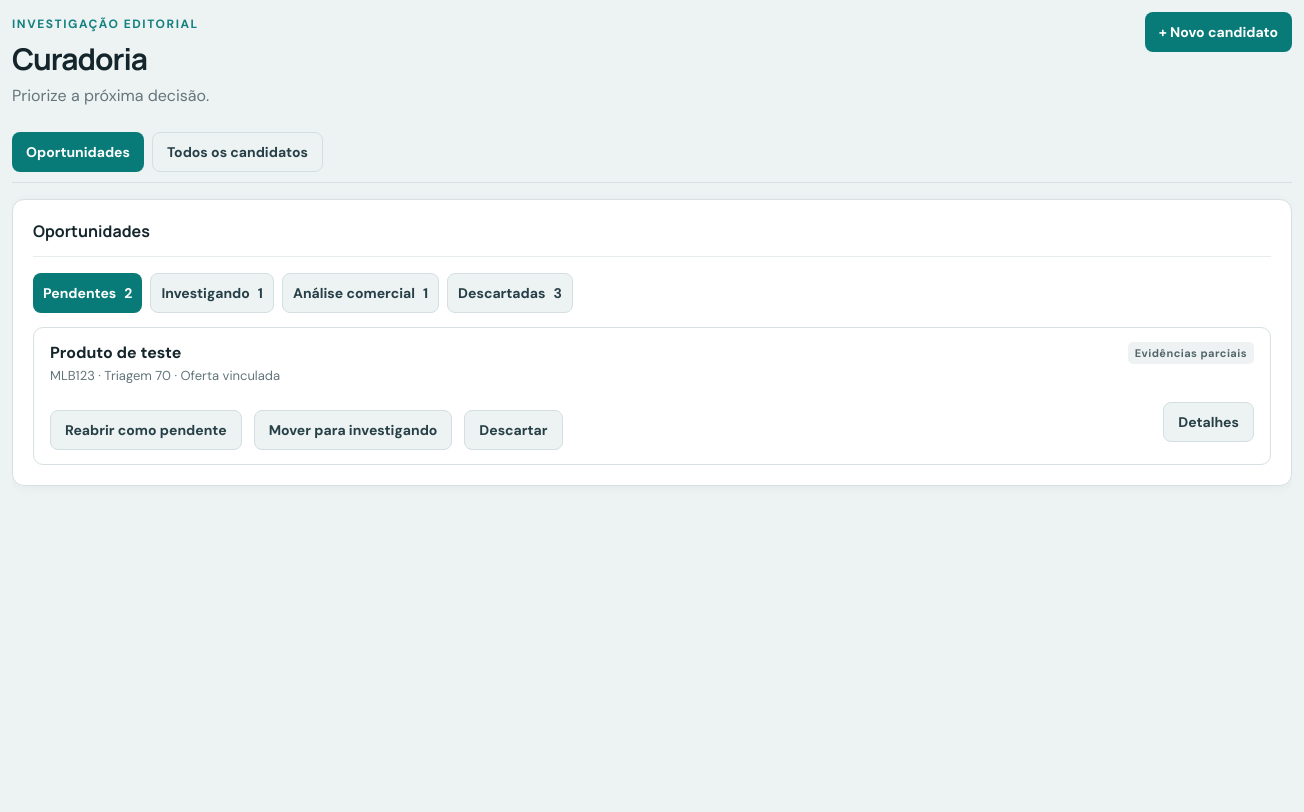
Test: Commercial analysis operator UI › loads the commercial summary only after opening the commercial-review tab
The image size is (1304, 812).
Expected: the heading "Produto de teste" is shown, [50,342,181,363]
Click the button "Análise comercial 1": {"x": 361, "y": 293} [282,273,439,313]
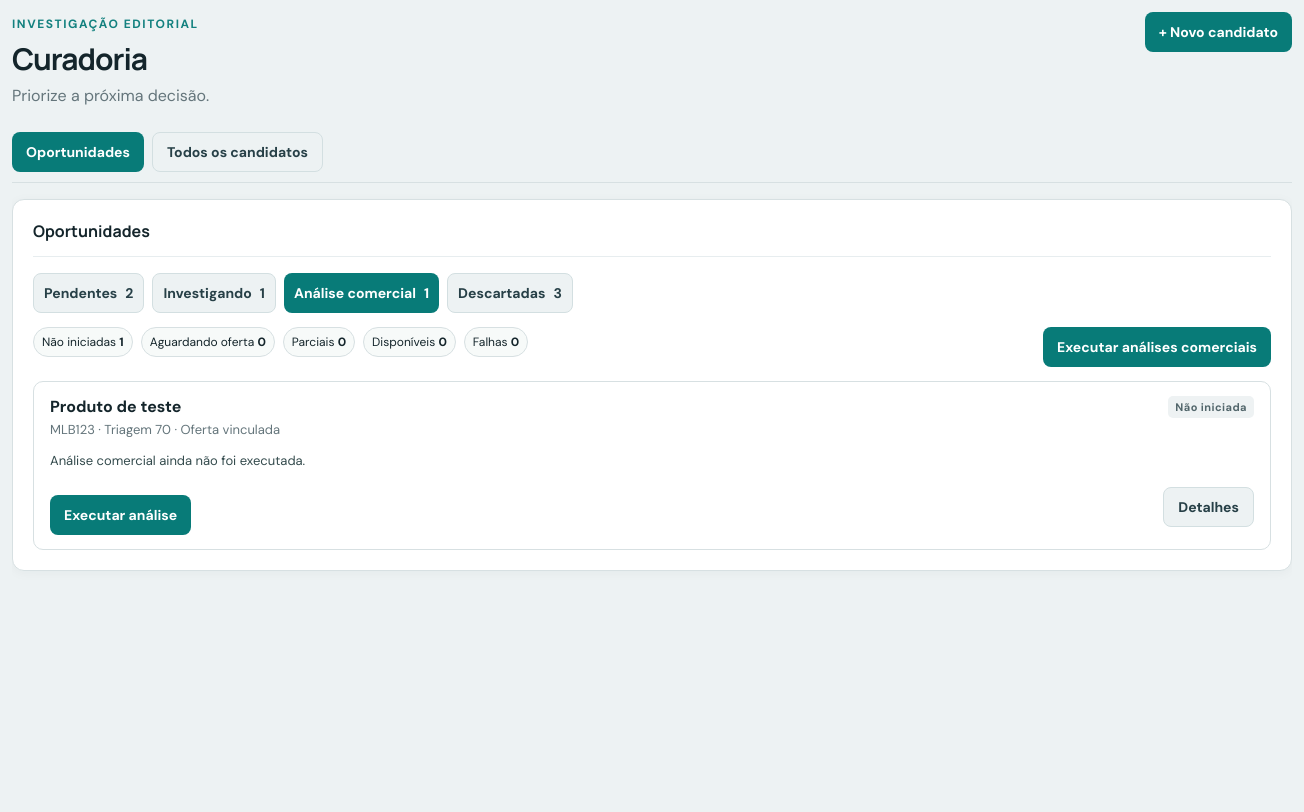
Result: the text "Não iniciadas" is shown at [42,334,119,350]
Result: the text "Análise comercial ainda não foi executada." is shown at [50,452,305,469]
